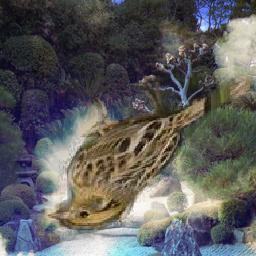Sparrow: (43, 76, 252, 230)
